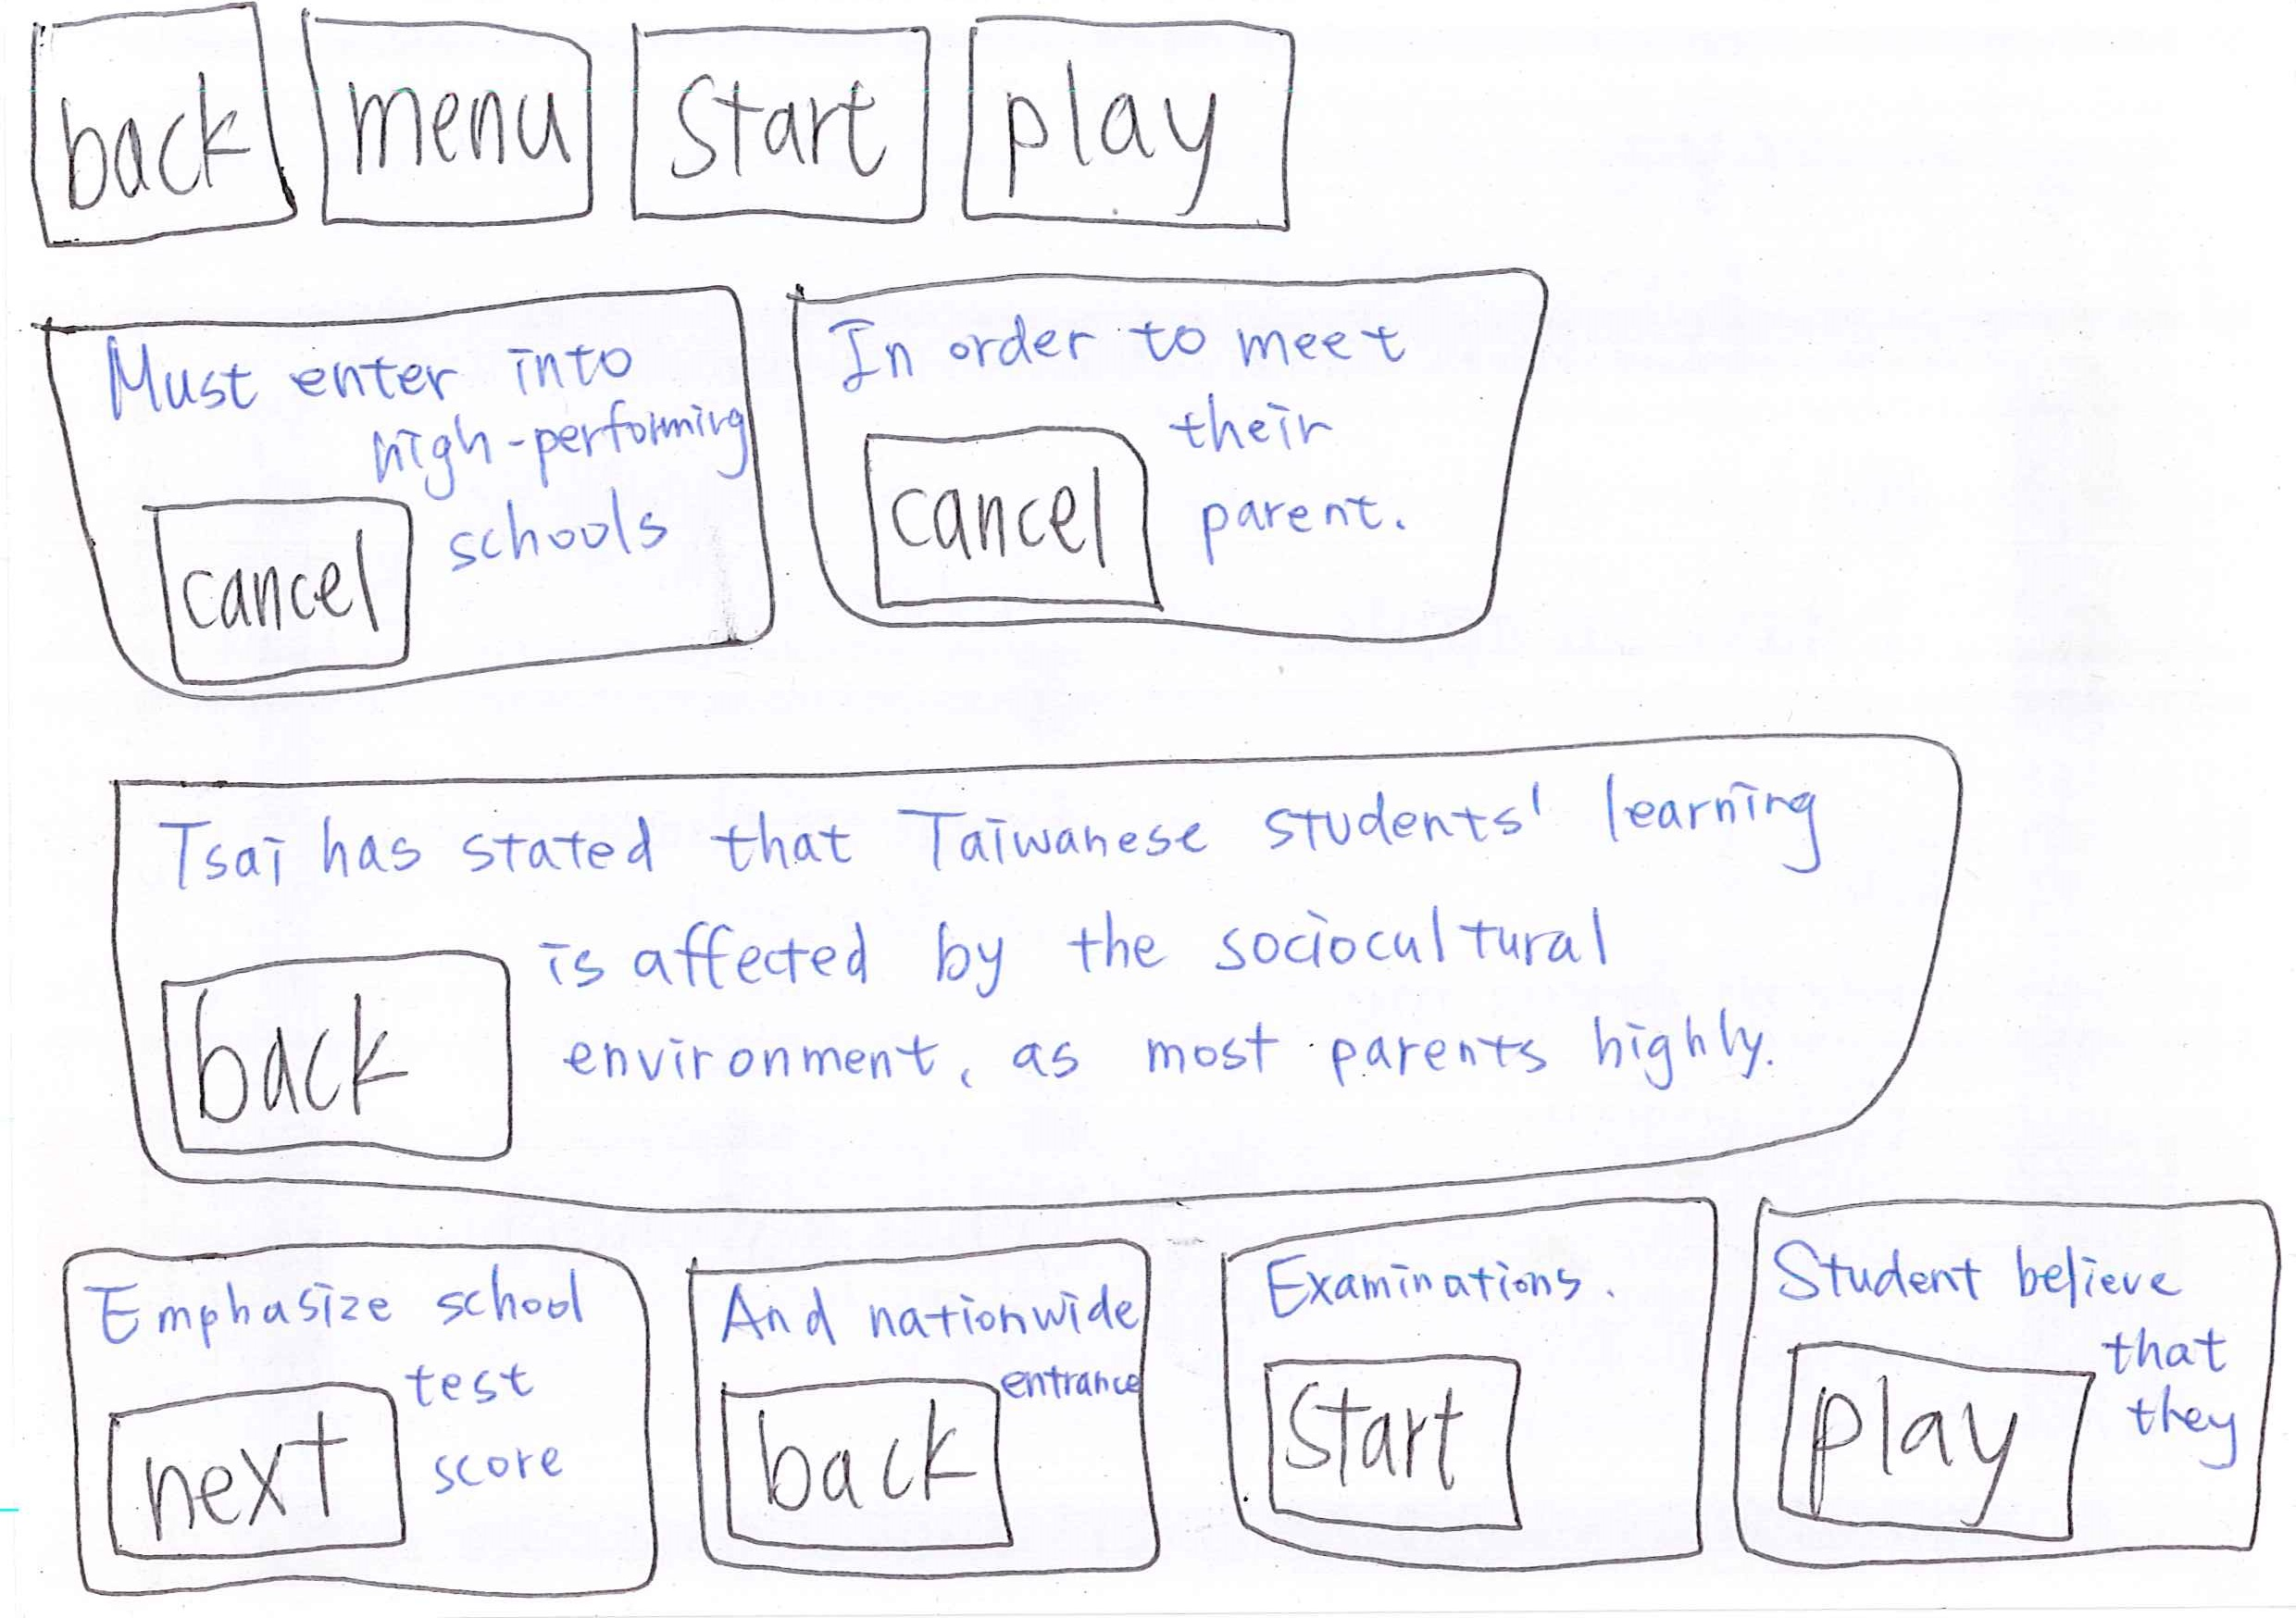back: (131, 933, 532, 1177), (14, 2, 313, 271), (704, 1361, 1033, 1557)
cancel: (117, 468, 445, 704), (844, 408, 1189, 620)
double: (762, 242, 1637, 671), (30, 266, 786, 716)
menu: (294, 2, 634, 243)
next: (96, 1380, 429, 1579)
play: (954, 4, 1333, 257), (1757, 1329, 2119, 1555)
quadruple: (42, 1217, 673, 1618), (1722, 1157, 2296, 1595), (1203, 1159, 1732, 1604), (664, 1217, 1194, 1618)
row: (2, 242, 2296, 737), (2, 725, 2296, 1221), (2, 1199, 2296, 1618), (2, 11, 2296, 242)
single: (53, 718, 2172, 1233)
small-title: (166, 772, 1827, 900), (165, 770, 1825, 898), (835, 303, 1433, 382), (713, 1261, 1137, 1355), (1792, 1233, 2205, 1322), (79, 1270, 595, 1338), (79, 347, 632, 399), (1242, 1247, 1637, 1315)
start: (611, 2, 942, 243), (1249, 1334, 1567, 1541)
text: (541, 898, 1790, 1101), (396, 401, 748, 557), (1194, 394, 1391, 553), (2109, 1310, 2256, 1487), (405, 1340, 574, 1487), (1011, 1369, 1135, 1417)
